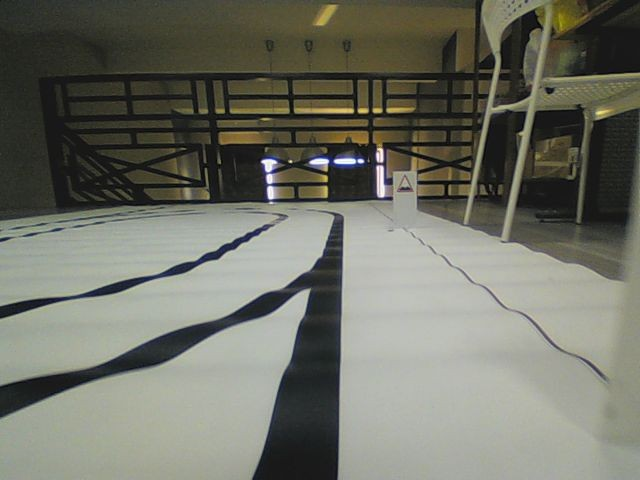Nerov: (396, 173, 414, 193)
